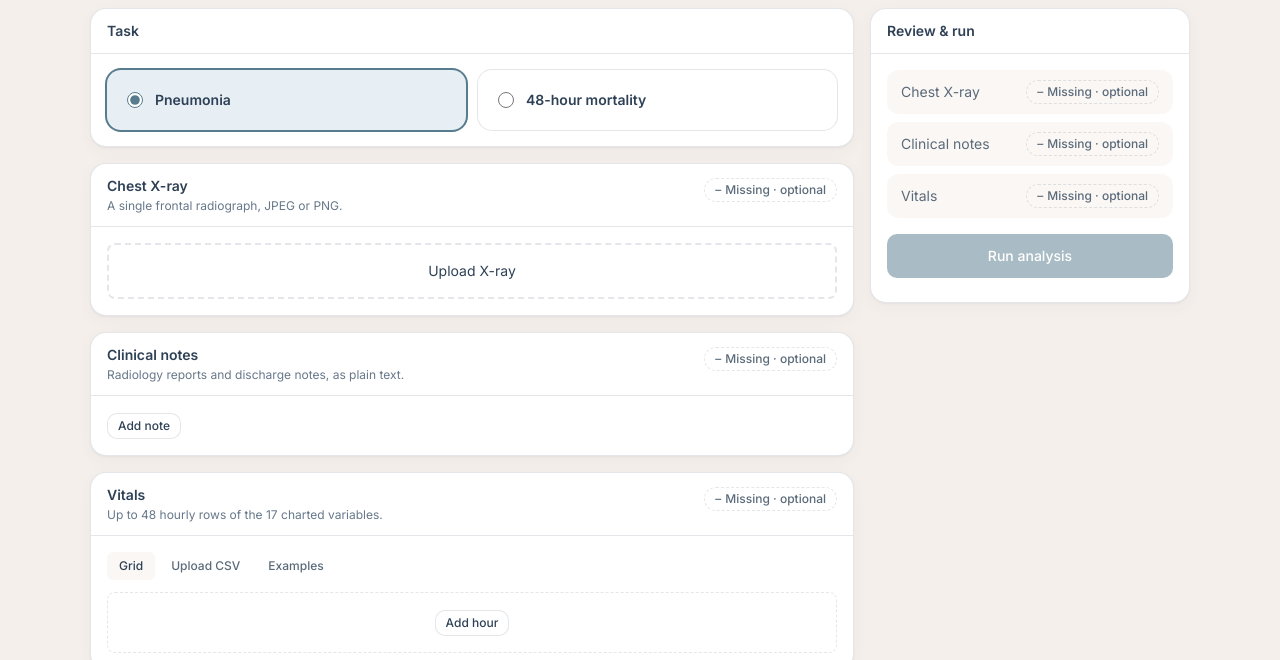
Test: AnalyzePage › loads a synthetic EHR preset into the grid
(page scrolled)
Click the tab "Examples" at (296, 566), box [256,552,336,580]
(page scrolled)
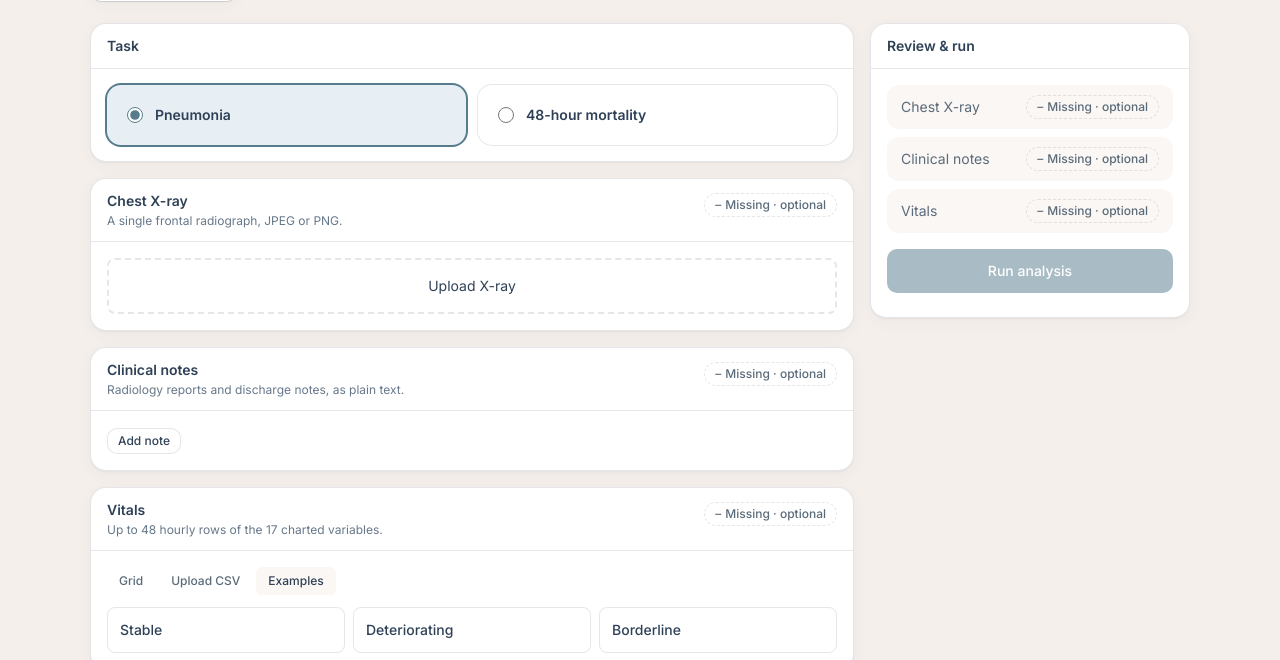
Click the button "Deteriorating" at (472, 630), box [353,607,591,653]
(page scrolled)
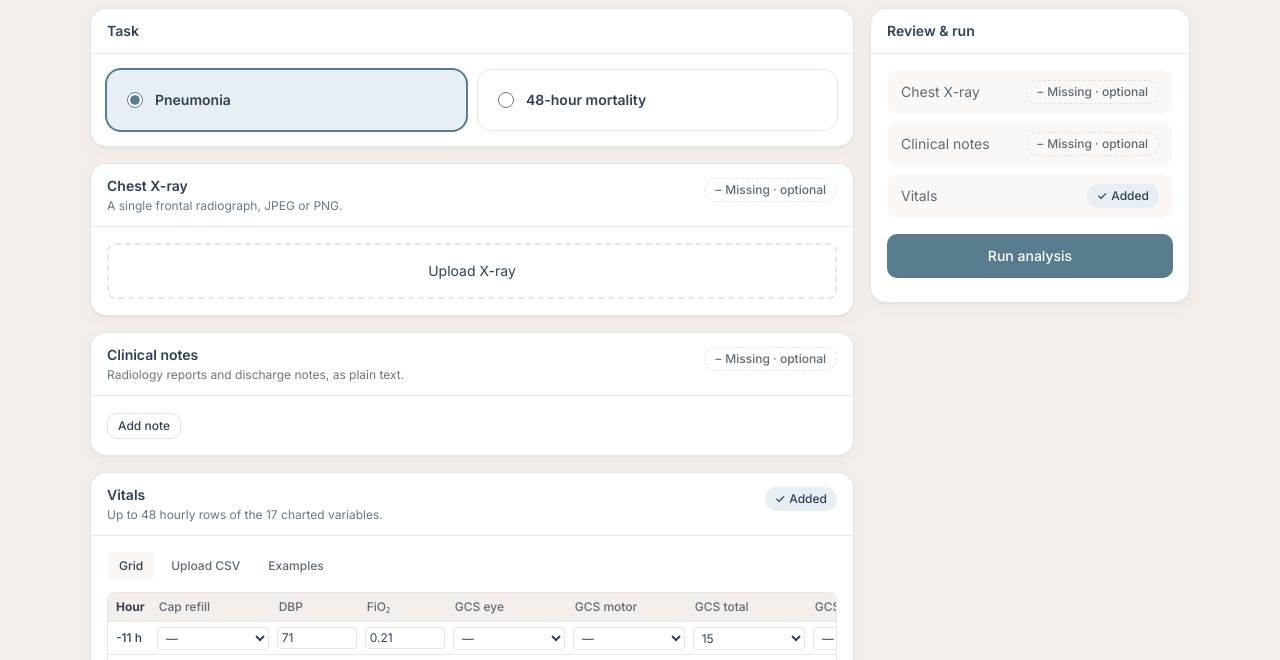
Expected: the button "Run analysis" is enabled, [887,234,1173,278]
